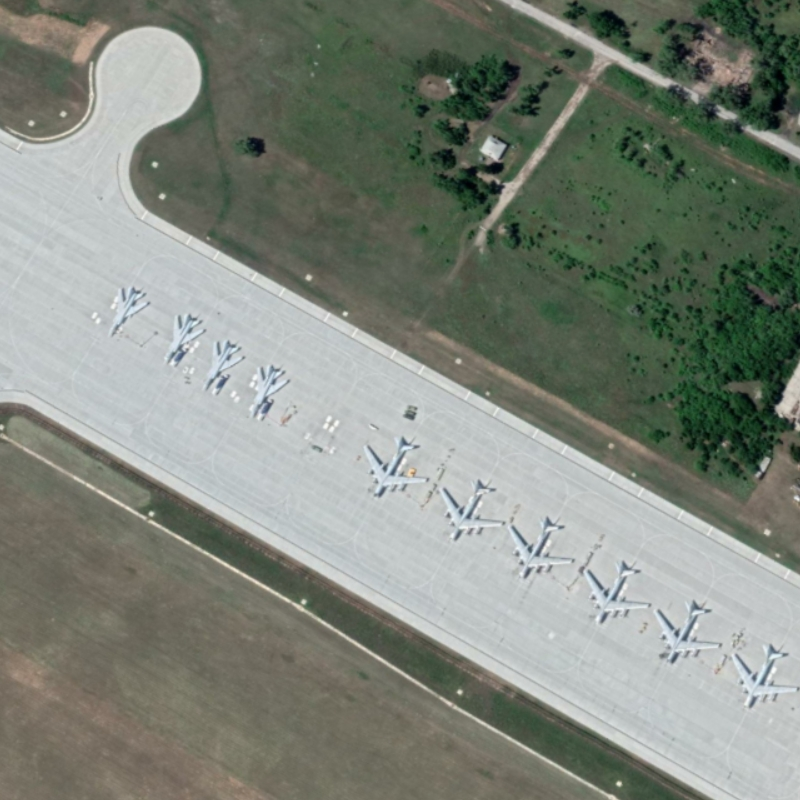A12: (161, 309, 208, 371), (104, 281, 151, 340), (247, 362, 292, 422), (200, 338, 245, 395)
A17: (506, 512, 577, 581), (729, 641, 800, 710), (653, 594, 723, 663), (359, 433, 430, 500), (582, 559, 652, 626), (437, 476, 505, 543)
